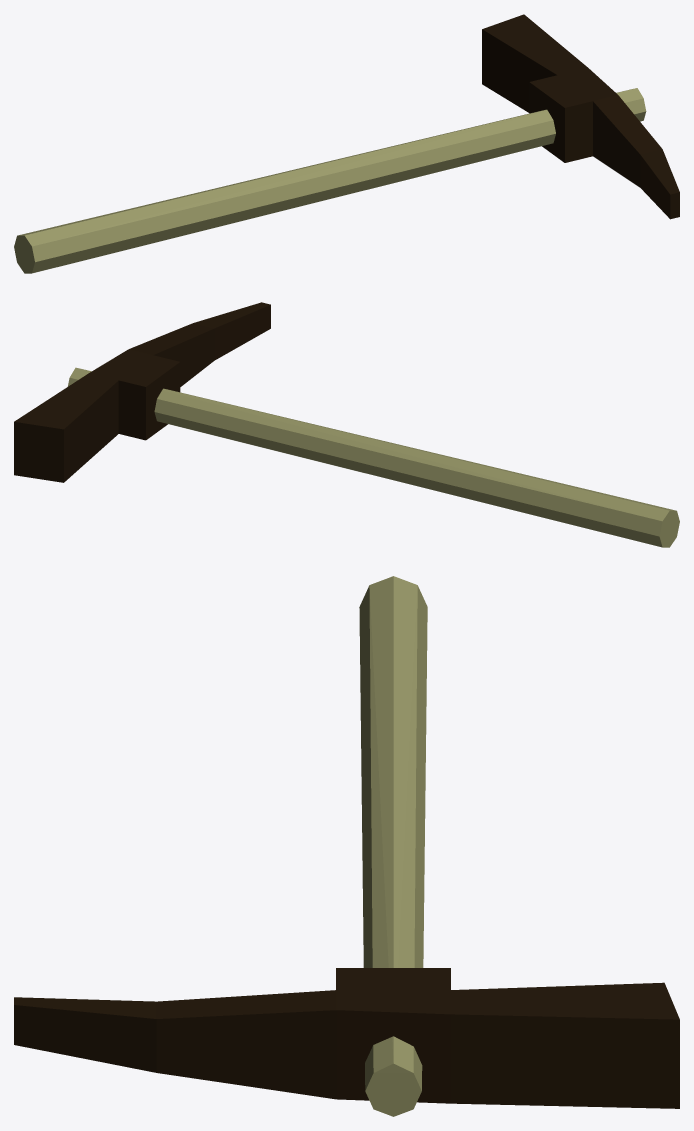
The model's file is Pioche.FBX.
3 renders of one model, top to bottom at view 1: azimuth 30°, elevation 25°; view 2: azimuth 150°, elevation 25°; view 3: azimuth 270°, elevation 25°, orthographic. The views are drawn at different scales.
Visible parts, largest first — view 1: Box007; view 2: Box007; view 3: Box007.
Part boxes in pixels (x1,y1,x2,y2): Box007: [14, 14, 679, 273]; Box007: [14, 302, 679, 547]; Box007: [14, 576, 679, 1116].
Size of the model in its own units: 2.6 by 0.2236 by 1.51.
